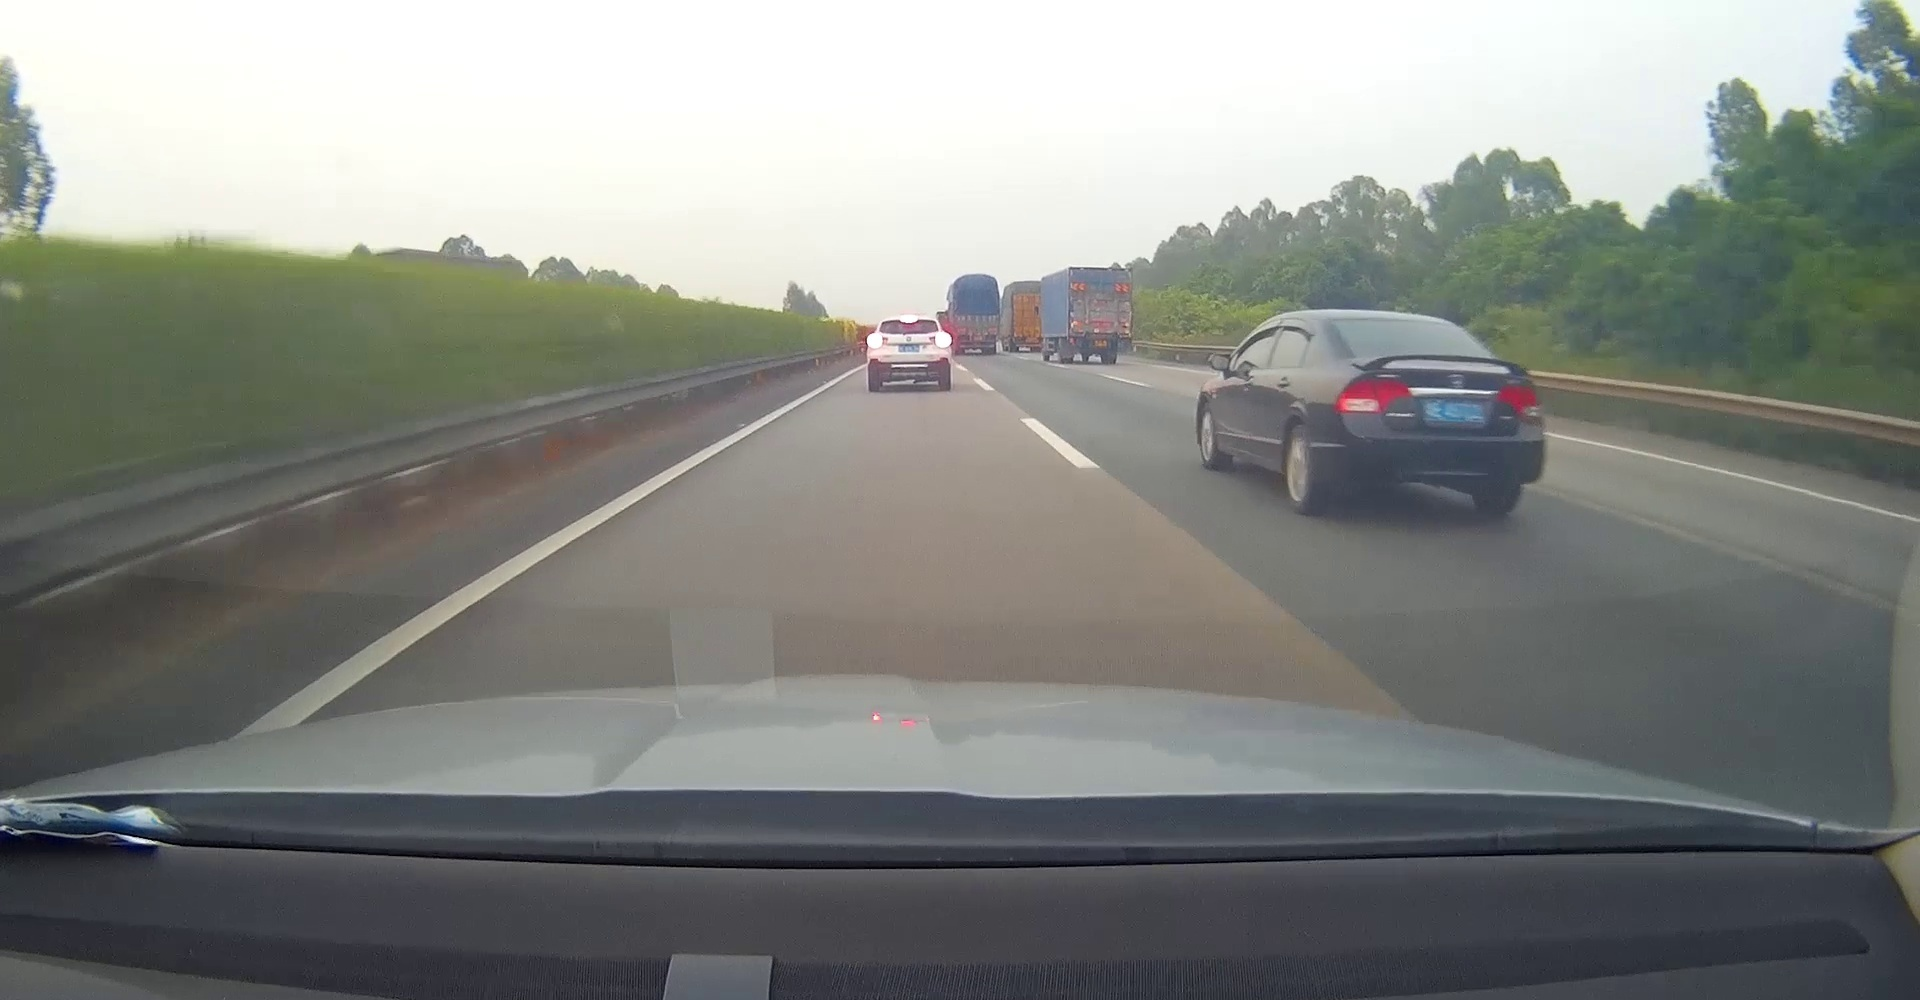L_light: (1335, 374, 1415, 418), (867, 335, 888, 345), (1070, 338, 1084, 344), (959, 338, 968, 341)
R_light: (1495, 385, 1537, 419), (930, 335, 950, 345), (1117, 338, 1131, 344), (985, 338, 996, 341)
T_light: (1390, 319, 1421, 326), (900, 319, 918, 324), (1095, 272, 1110, 275), (973, 324, 982, 327)
day-brake: (866, 315, 952, 391)
day-no: (1330, 310, 1545, 516), (1065, 266, 1133, 364), (952, 274, 1001, 354)
